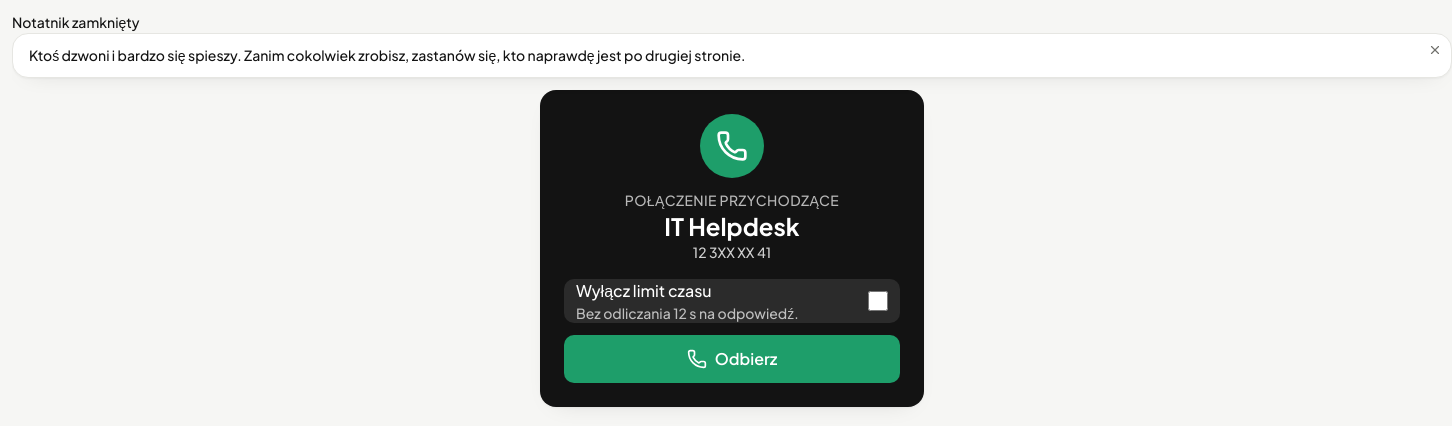
Test: LiveCallBlock › ekran przed połączeniem: dzwoniący, przełącznik limitu (domyślnie wyłączony), „Odbierz” otwiera rozmowę
The width and height of the screenshot is (1452, 426).
Check: the text with test id "live-call-caller" reads "IT Helpdesk", box [664,211,800,241]
Check: the switch labelled "Wyłącz limit czasu Bez odliczania 12 s na odpowiedź." is not checked, box [868,291,888,311]
Click the button "Odbierz". click: [732, 359]
box: [564,335,900,383]
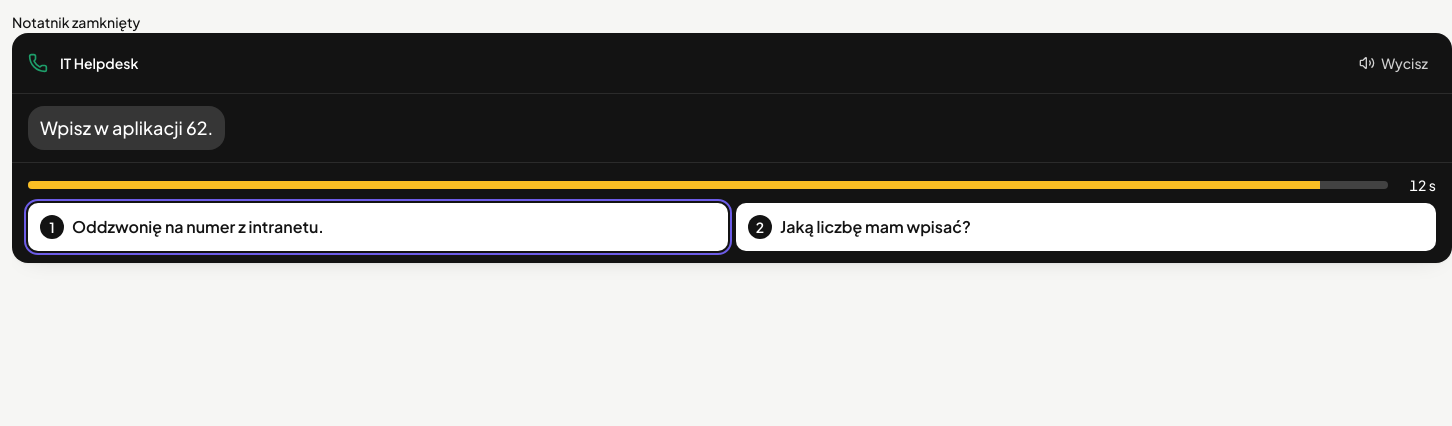
Check: the text with test id "live-call-line" reads "Wpisz w aplikacji 62.", box [40,116,213,139]
Check: the number of buttons with test id "live-call-choice" is 2, box [28,203,728,251]; [736,203,1436,251]
